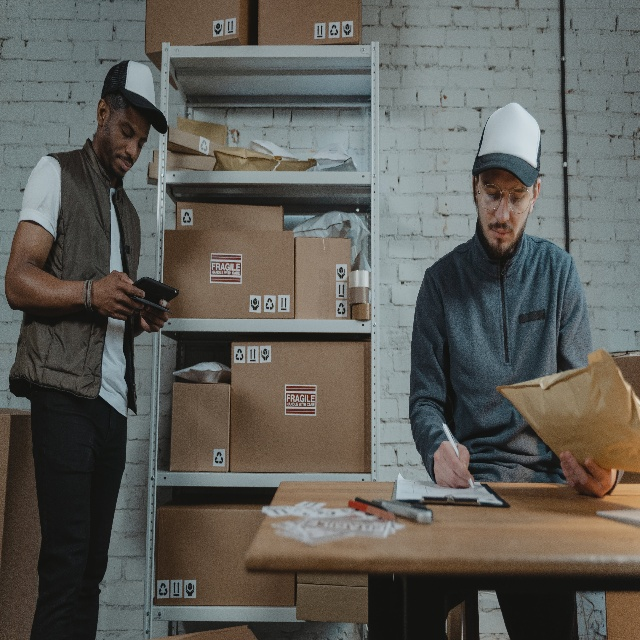Gafas: (476, 178, 533, 214)
Sin_guantes: (557, 445, 617, 497), (95, 269, 146, 320), (431, 438, 475, 487), (139, 294, 170, 333)
